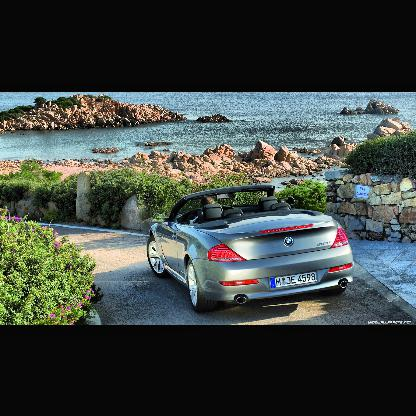BMW 6 Series Convertible 2007: (145, 183, 357, 317)
